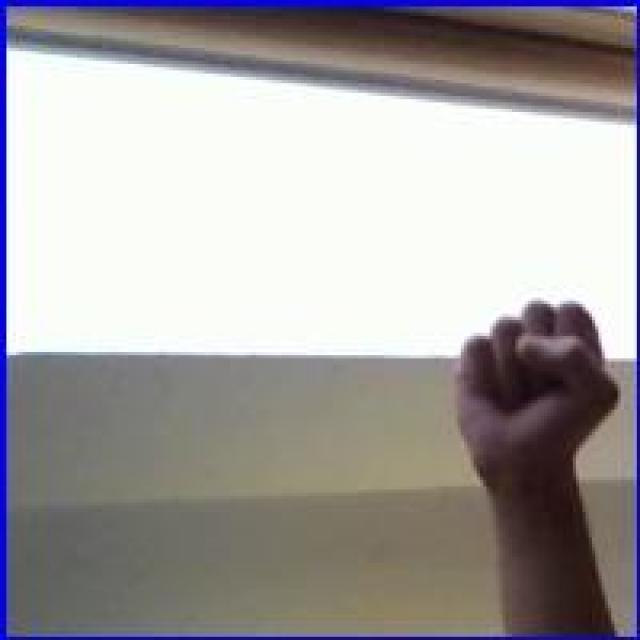S: (447, 294, 622, 493)
